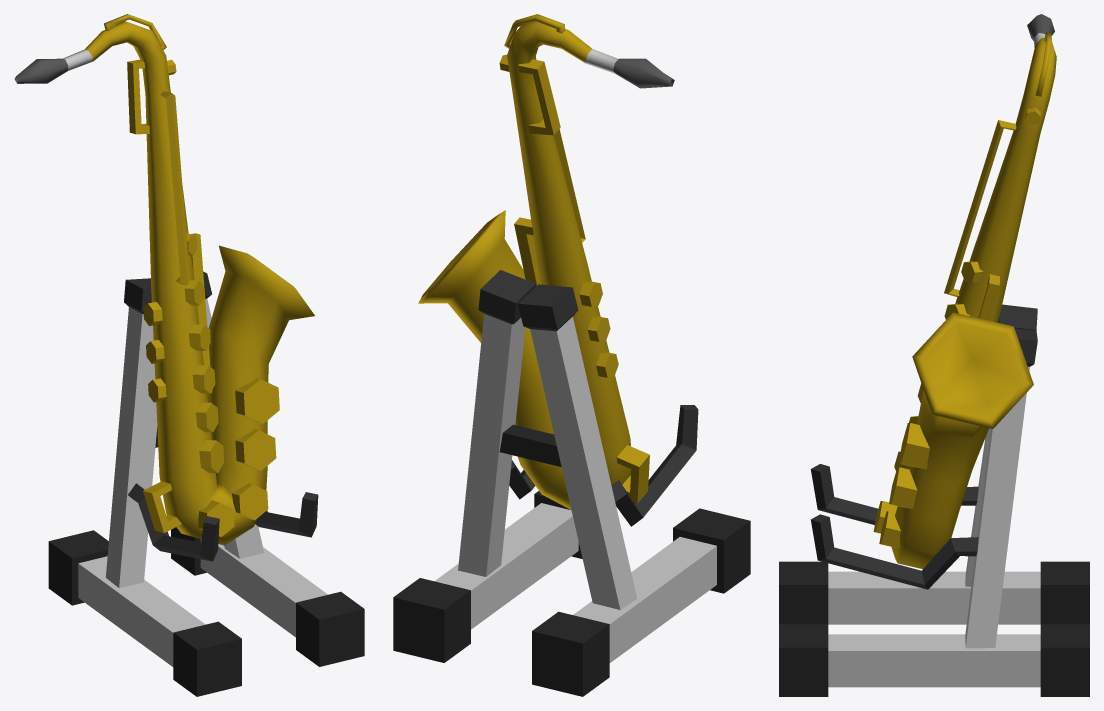
Rendered from Saxophone.fbx.
3 views of the same model, side by side, from view 1: azimuth 30°, elevation 25°; view 2: azimuth 150°, elevation 25°; view 3: azimuth 270°, elevation 25° (orthographic). The views are drawn at different scales.
Parts seen in each view (by area): view 1: Saxophone; view 2: Saxophone; view 3: Saxophone.
Boxes of the visible parts, x1,y1,x2,y2 form: Saxophone: (14,14,364,696); Saxophone: (393,14,750,696); Saxophone: (779,14,1089,696).
Size of the model in its own units: 117 by 260 by 122.
